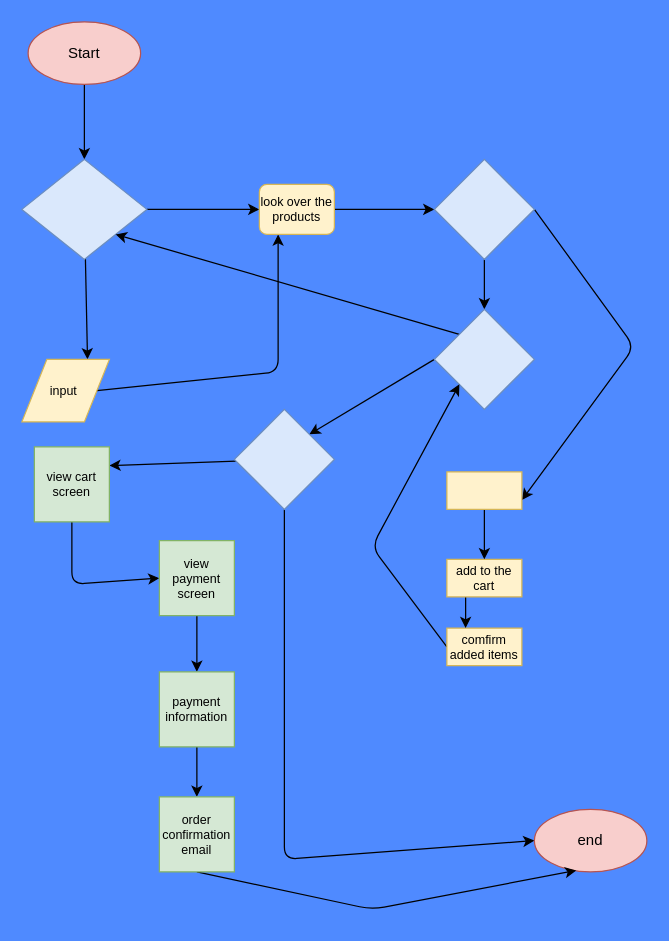
Some shapes in this 669 by 941 pixel diagram are drawn without their labels. Each missing label, with the centre of its shape:
check product page: the point at 484,490
checkout: the point at 283,458
continue shopping: the point at 483,358
search or explore a product: the point at 84,208
viewing specific product: the point at 483,208
